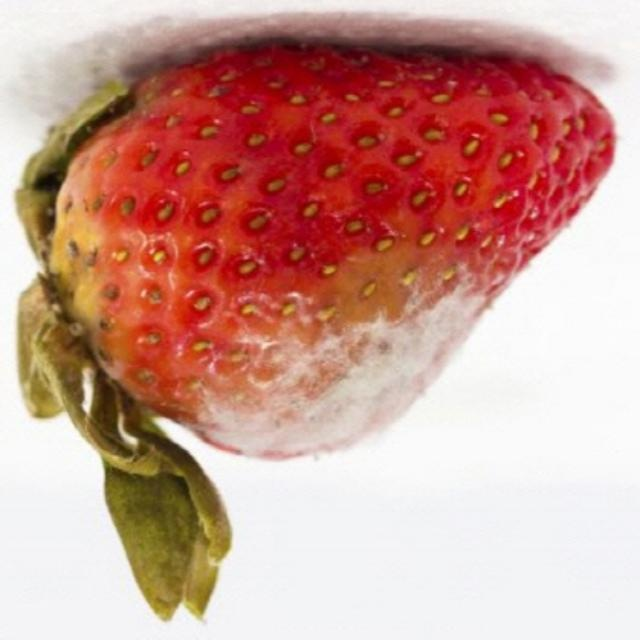Powdery Mildew Fruit: (162, 230, 531, 463)
